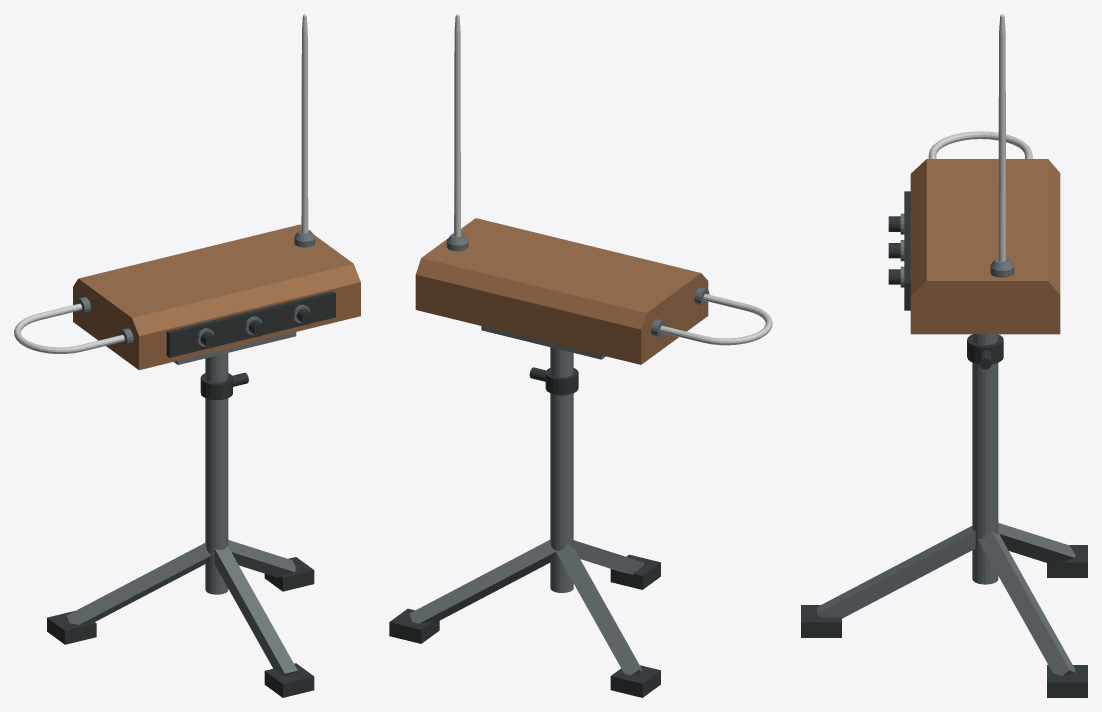
The picture shows the model from 3 angles, left to right: view 1: azimuth 30°, elevation 25°; view 2: azimuth 150°, elevation 25°; view 3: azimuth 270°, elevation 25°; orthographic projection. The views are drawn at different scales.
Visible parts, largest first — view 1: WholeBevelProfileWoodCabinet, WholeContinuousStandColumn, WholeRaisedFrontControlPlate, WholeOutwardStandLeg_0, WholeOutwardStandLeg_2, WholeTallVerticalAntenna, WholeHorizontalUReturnAntenna, WholeOutwardStandLeg_1, WholeGroundFoot_0, WholeGroundFoot_2, WholeGroundFoot_1, WholeColumnClampCollar (+1 smaller); view 2: WholeBevelProfileWoodCabinet, WholeContinuousStandColumn, WholeOutwardStandLeg_1, WholeOutwardStandLeg_2, WholeTallVerticalAntenna, WholeHorizontalUReturnAntenna, WholeGroundFoot_2, WholeOutwardStandLeg_0, WholeGroundFoot_1, WholeGroundFoot_0, WholeColumnClampCollar, WholeUnderCabinetMount; view 3: WholeBevelProfileWoodCabinet, WholeContinuousStandColumn, WholeOutwardStandLeg_0, WholeOutwardStandLeg_1, WholeTallVerticalAntenna, WholeOutwardStandLeg_2, WholeGroundFoot_1, WholeGroundFoot_0, WholeHorizontalUReturnAntenna, WholeGroundFoot_2, WholeRaisedFrontControlPlate, WholeColumnClampCollar.
Part boxes in pixels (left/top/right/bottom): WholeBevelProfileWoodCabinet: left=73, top=224, right=360, bottom=370; WholeContinuousStandColumn: left=205, top=353, right=228, bottom=594; WholeRaisedFrontControlPlate: left=166, top=291, right=335, bottom=357; WholeOutwardStandLeg_0: left=214, top=546, right=297, bottom=675; WholeOutwardStandLeg_2: left=66, top=542, right=211, bottom=624; WholeTallVerticalAntenna: left=301, top=14, right=308, bottom=233; WholeHorizontalUReturnAntenna: left=14, top=303, right=124, bottom=353; WholeOutwardStandLeg_1: left=228, top=540, right=295, bottom=577; WholeGroundFoot_0: left=264, top=663, right=314, bottom=697; WholeGroundFoot_2: left=47, top=610, right=96, bottom=644; WholeGroundFoot_1: left=264, top=557, right=314, bottom=591; WholeColumnClampCollar: left=200, top=373, right=232, bottom=399; WholeBevelProfileWoodCabinet: left=415, top=218, right=708, bottom=364; WholeContinuousStandColumn: left=550, top=347, right=573, bottom=592; WholeOutwardStandLeg_1: left=409, top=540, right=555, bottom=623; WholeOutwardStandLeg_2: left=555, top=544, right=642, bottom=675; WholeTallVerticalAntenna: left=454, top=14, right=460, bottom=237; WholeHorizontalUReturnAntenna: left=660, top=294, right=772, bottom=345; WholeGroundFoot_2: left=610, top=665, right=660, bottom=697; WholeOutwardStandLeg_0: left=573, top=540, right=643, bottom=574; WholeGroundFoot_1: left=389, top=608, right=439, bottom=643; WholeGroundFoot_0: left=610, top=554, right=660, bottom=589; WholeColumnClampCollar: left=545, top=368, right=578, bottom=395; WholeUnderCabinetMount: left=481, top=326, right=605, bottom=359; WholeBevelProfileWoodCabinet: left=910, top=159, right=1060, bottom=334; WholeContinuousStandColumn: left=972, top=334, right=998, bottom=584; WholeOutwardStandLeg_0: left=817, top=526, right=975, bottom=618; WholeOutwardStandLeg_1: left=978, top=530, right=1075, bottom=675; WholeTallVerticalAntenna: left=998, top=14, right=1006, bottom=261; WholeOutwardStandLeg_2: left=998, top=523, right=1075, bottom=565; WholeGroundFoot_1: left=1047, top=665, right=1087, bottom=697; WholeGroundFoot_0: left=801, top=605, right=841, bottom=637; WholeHorizontalUReturnAntenna: left=928, top=131, right=1032, bottom=158; WholeGroundFoot_2: left=1047, top=545, right=1087, bottom=577; WholeRaisedFrontControlPlate: left=904, top=191, right=910, bottom=310; WholeColumnClampCollar: left=967, top=334, right=1003, bottom=364.
Bounding box in the file's own units: 0.8749 × 1.53 × 0.595.
